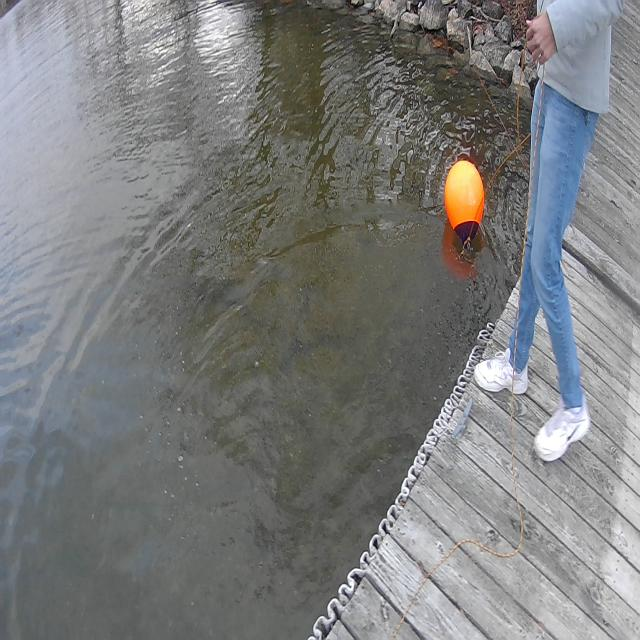Buoy: (443, 158, 486, 228)
